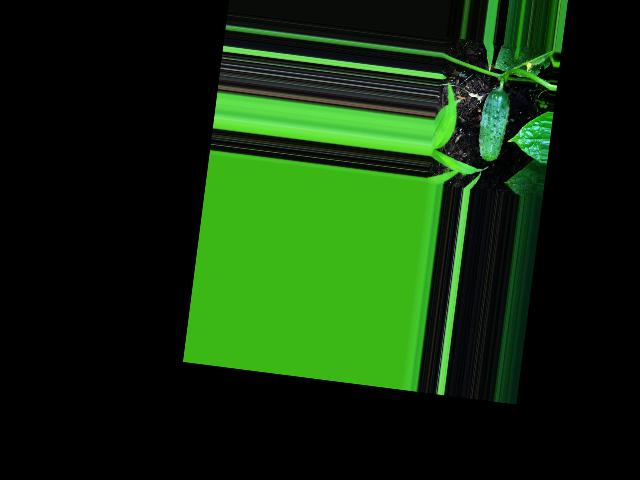cucumber: (474, 86, 511, 164)
